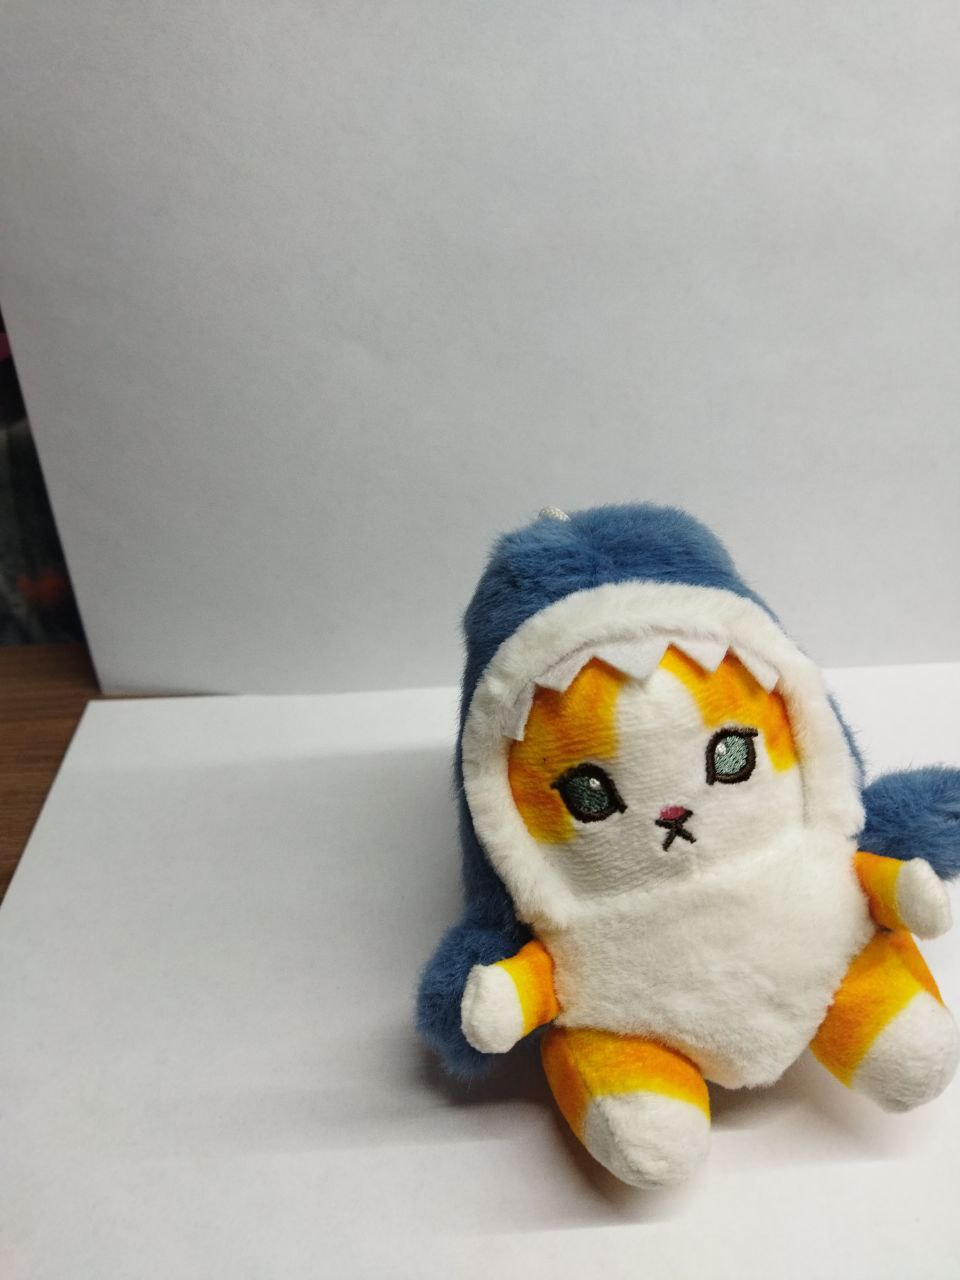Snark Cat: (409, 501, 960, 1187)
